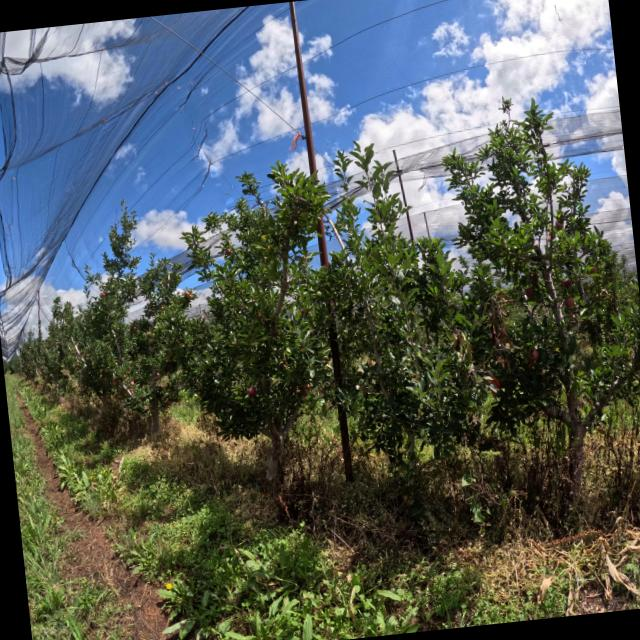-FireBlight-: (482, 295, 514, 370), (448, 326, 473, 365), (482, 376, 499, 393)
